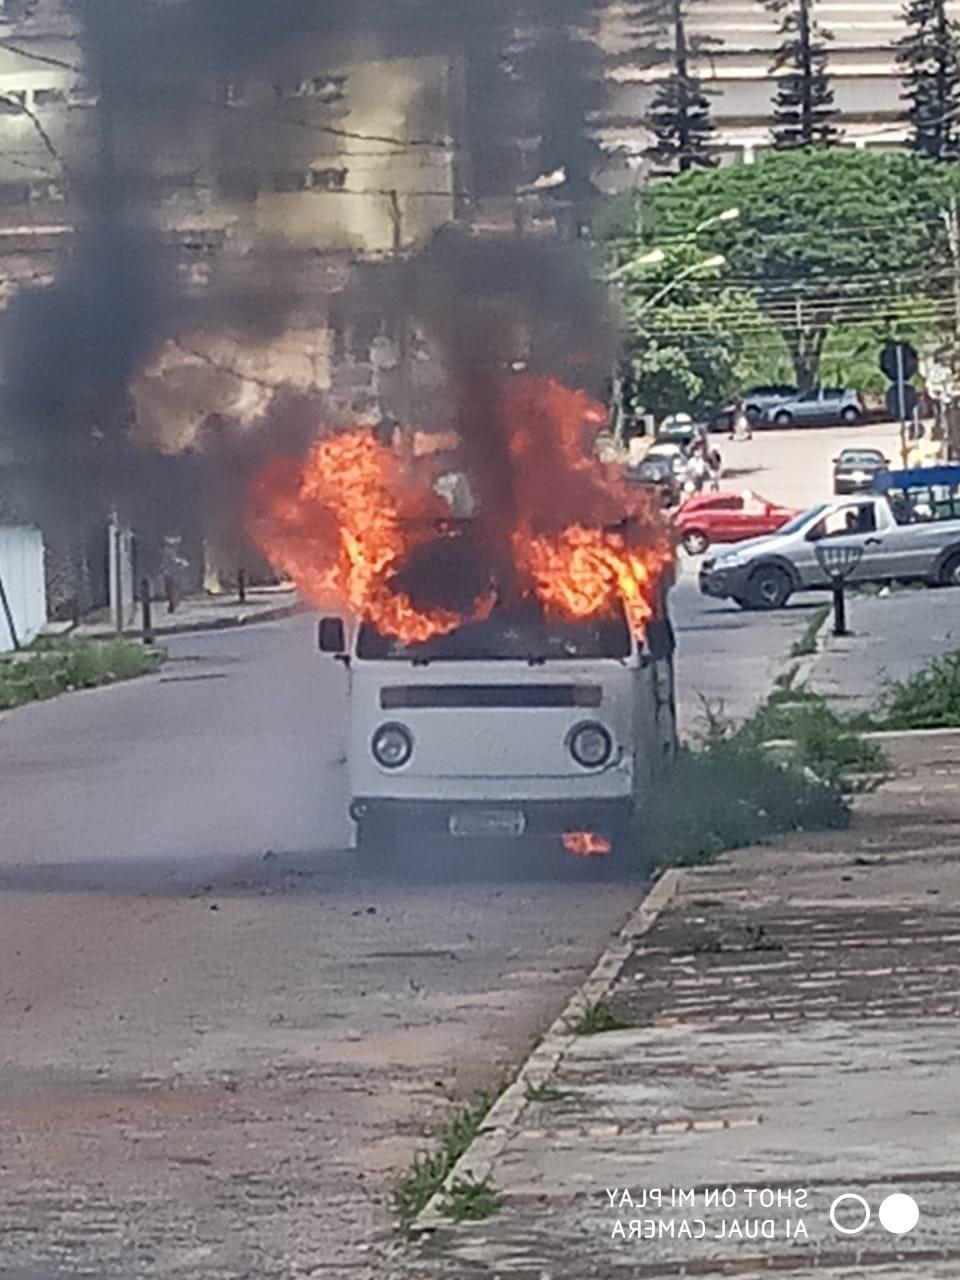Fire: (248, 423, 491, 642), (515, 372, 666, 639), (562, 830, 613, 852)
